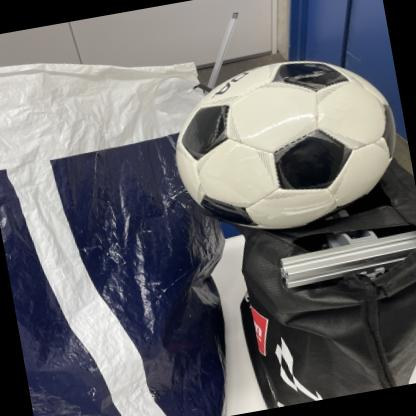ball: (166, 44, 411, 245), (165, 45, 409, 246)
